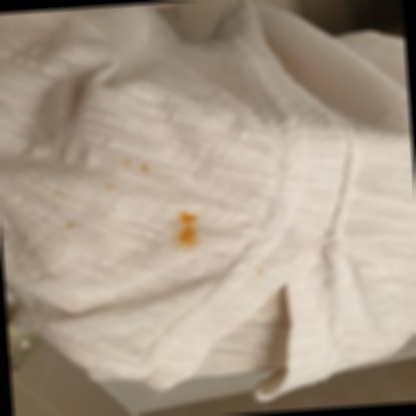kimchi: (173, 212, 198, 249), (139, 161, 153, 180), (101, 180, 119, 192), (119, 157, 135, 165), (255, 273, 266, 283), (57, 190, 68, 200), (66, 220, 76, 230), (214, 154, 224, 162)
